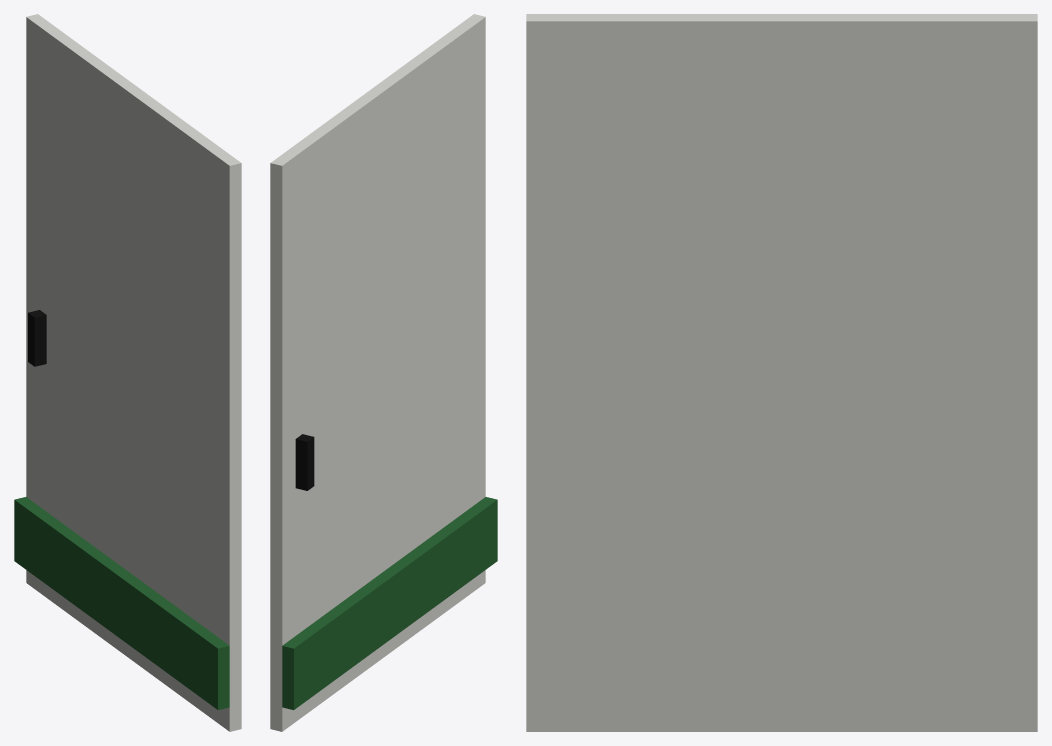
The model's file is animal_control_van_rear_door.glb.
3 renders of one model, left to right at view 1: azimuth 30°, elevation 25°; view 2: azimuth 150°, elevation 25°; view 3: azimuth 270°, elevation 25°, orthographic. The views are drawn at different scales.
Visible parts, largest first — view 1: body:compound; view 2: body:compound; view 3: body:compound.
Part boxes in pixels (box(x1,y1,x2,y2)): body:compound: box(14, 14, 241, 731); body:compound: box(270, 14, 497, 731); body:compound: box(526, 14, 1037, 731).
Bounding box in the file's own units: 0.0625 × 1.44 × 0.9375.
